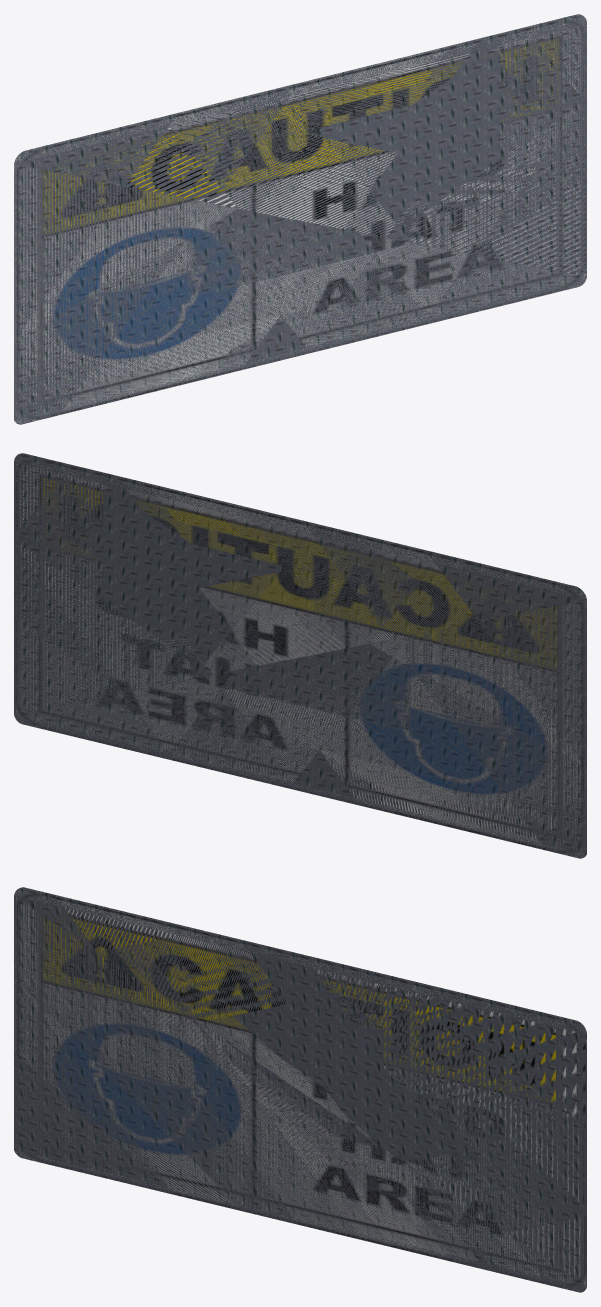
3 renders of one model, top to bottom at view 1: azimuth 30°, elevation 25°; view 2: azimuth 150°, elevation 25°; view 3: azimuth 330°, elevation 25°, orthographic.
Parts seen in each view (by area): view 1: SketchUp; view 2: SketchUp; view 3: SketchUp.
Part boxes in pixels (bbox=[...]): SketchUp: bbox=[14, 14, 586, 424]; SketchUp: bbox=[14, 453, 586, 858]; SketchUp: bbox=[14, 887, 586, 1292].
Bounding box in the file's own units: 97.6 × 0.5129 × 44.3.
Materials: 2 (2 with a texture image).
